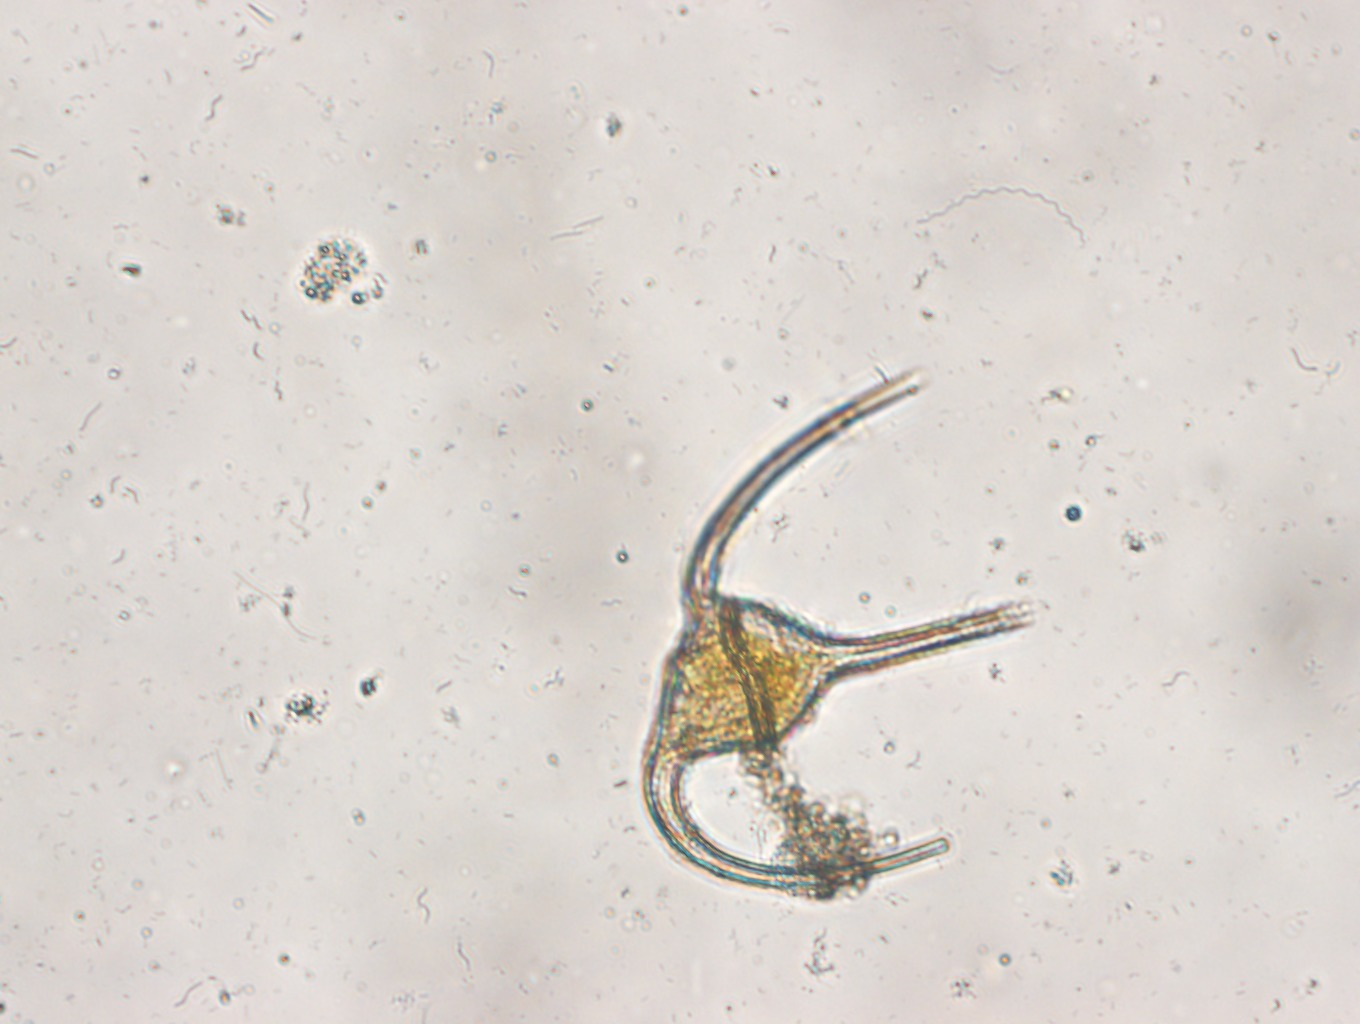ceratium trichoceros: (640, 357, 1039, 897)
